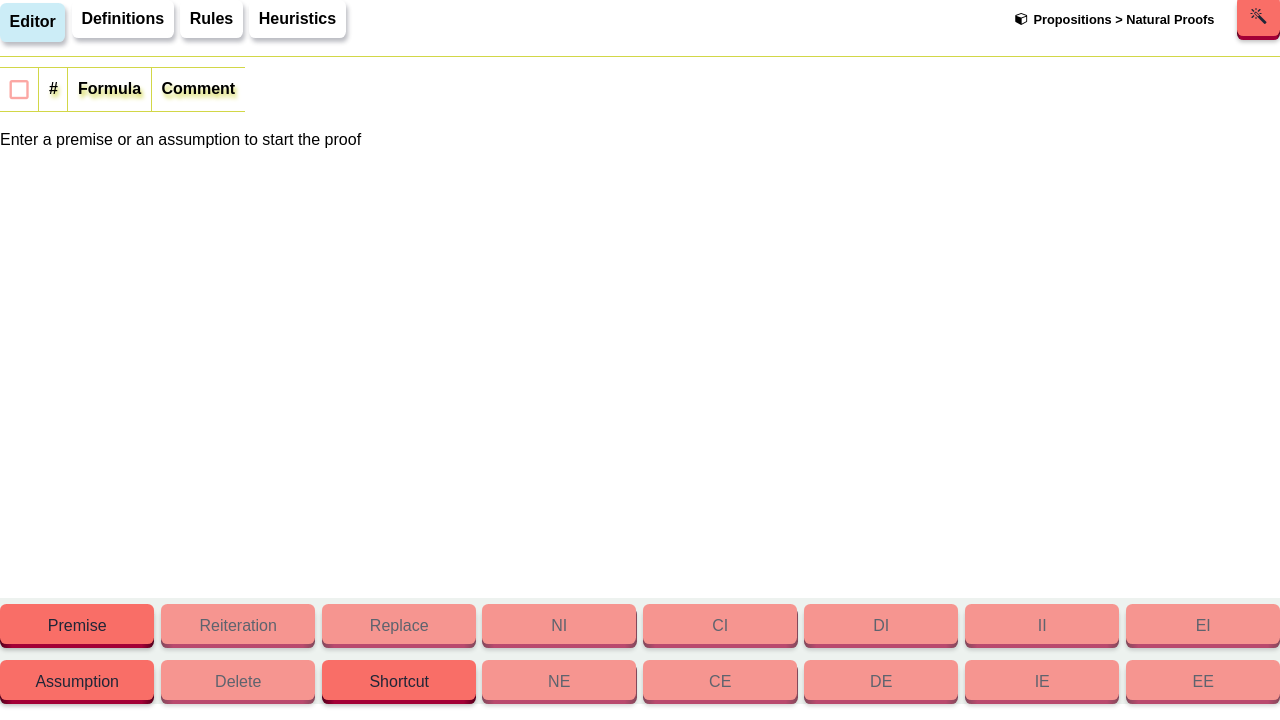
Scenario: Natural Proofs Editor tests: › user can add a premise to the proof table through the form
This screenshot has width=1280, height=720.
Expected: the number of rows is 1, x1=0 y1=67 x2=245 y2=111
Expected: the text "Enter a premise or an assumption to start the proof" is shown, x1=0 y1=128 x2=361 y2=152
Note: Open the form
Click the button titled "Enter a premise" at (77, 628), box x1=0 y1=608 x2=154 y2=648
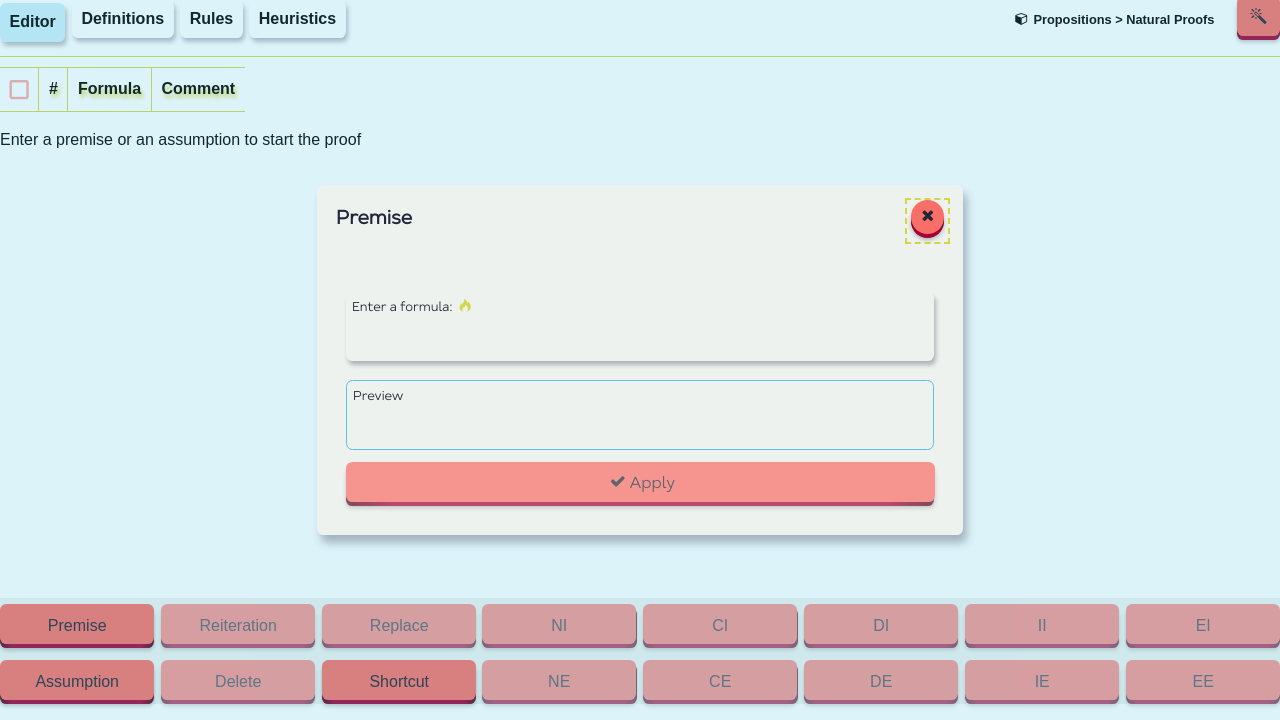
Now the button titled "Apply" is disabled, box x1=346 y1=466 x2=934 y2=506
Note: Enter a value
Type "Q" into the field at (640, 342), box x1=346 y1=324 x2=934 y2=361
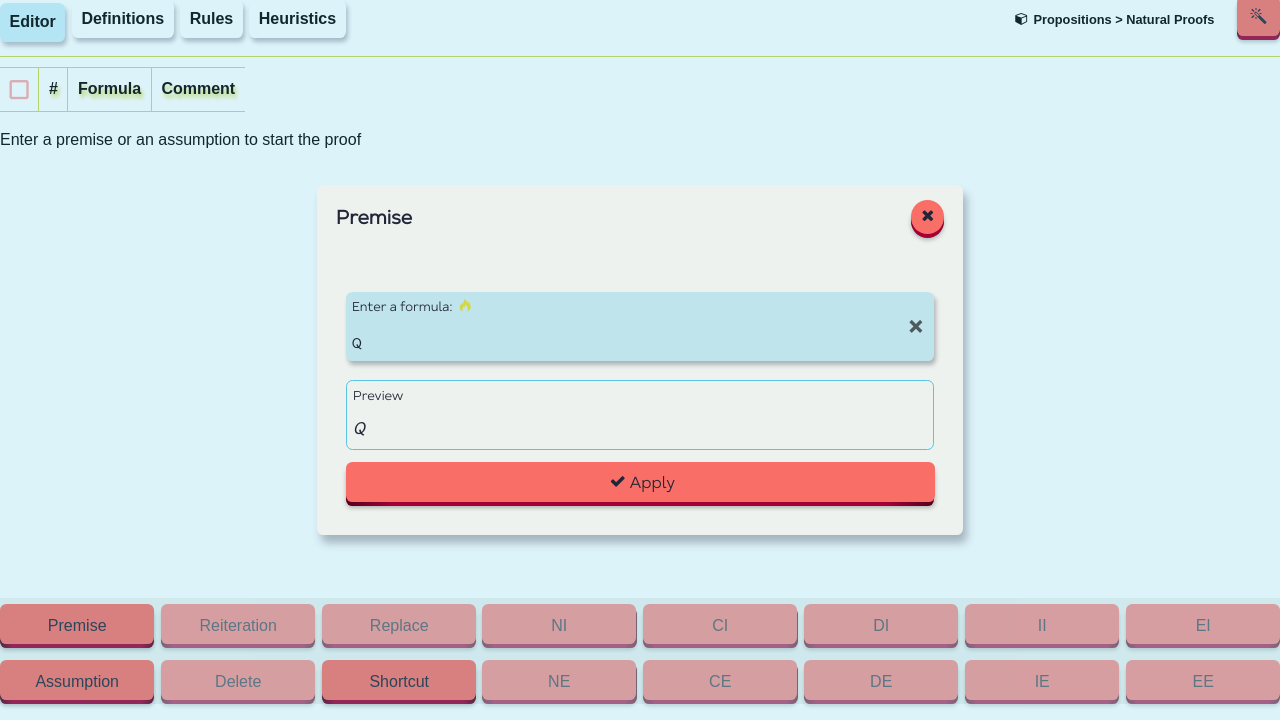
Now the button titled "Apply" is enabled
Note: Click apply & close the popup
Click the button titled "Apply" at (640, 486), box x1=346 y1=466 x2=934 y2=506
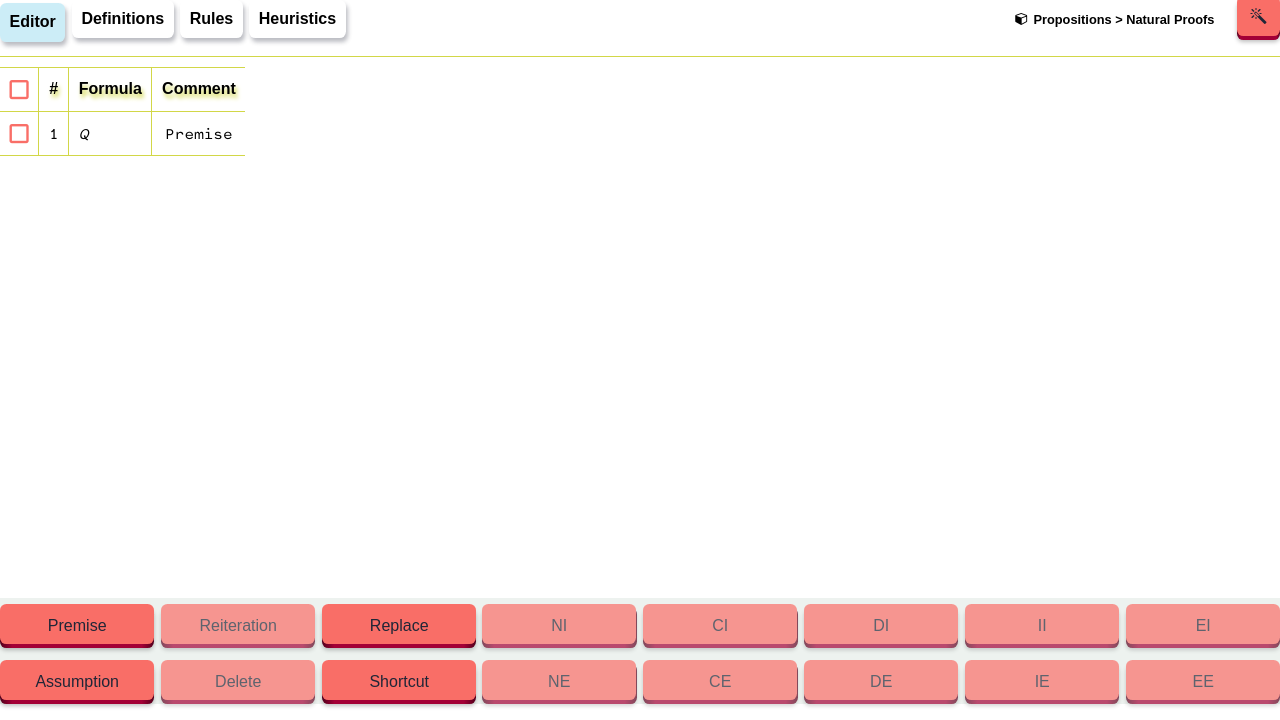
Now the number of cells is 4, box x1=0 y1=111 x2=39 y2=156; x1=39 y1=111 x2=69 y2=156; x1=69 y1=111 x2=152 y2=156; x1=152 y1=111 x2=246 y2=156
Now the number of rows is 2, box x1=0 y1=67 x2=246 y2=111; x1=0 y1=111 x2=246 y2=156
Now the row "1 Q Premise" is shown, box x1=0 y1=111 x2=246 y2=156
